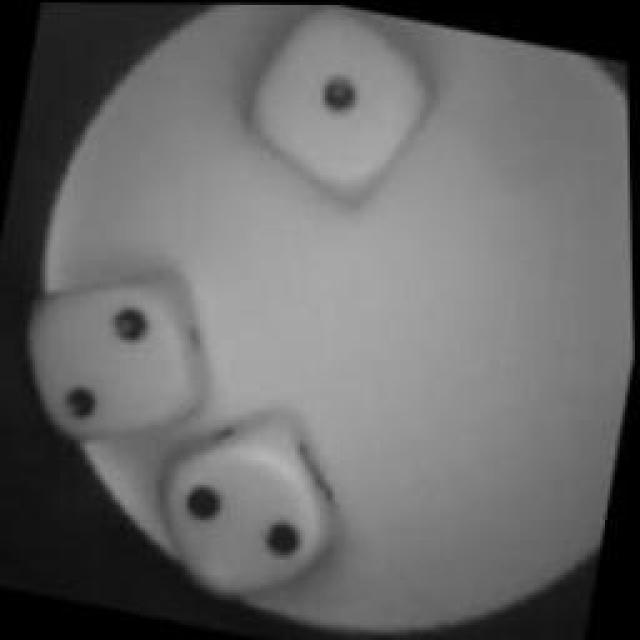dice_1: (228, 4, 458, 214)
dice_2: (139, 379, 366, 619), (7, 244, 225, 461)
